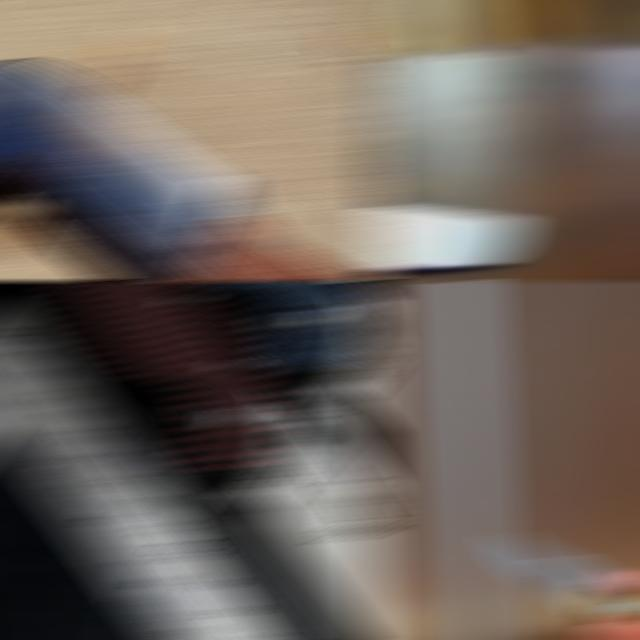Knife: (23, 282, 388, 640), (183, 282, 388, 434), (494, 532, 640, 634), (366, 205, 525, 269)
Knife_Handle: (493, 506, 640, 640)
